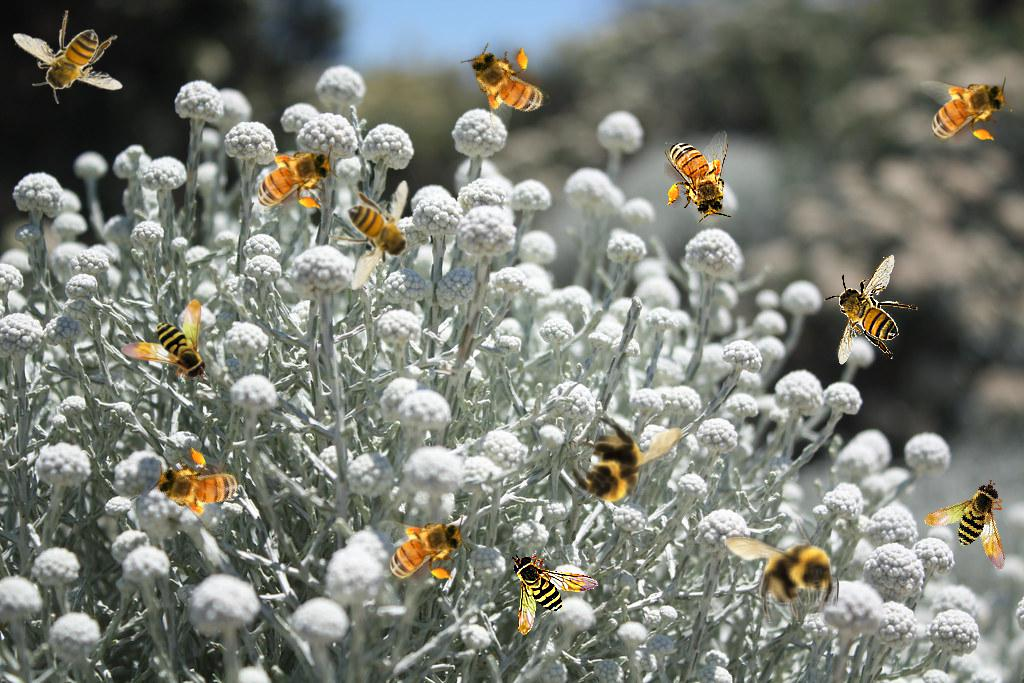Bee: (548, 378, 703, 535), (141, 433, 257, 542), (724, 517, 839, 624), (919, 477, 1024, 591), (457, 29, 557, 142), (12, 10, 123, 104), (328, 180, 422, 291), (824, 254, 918, 365), (120, 299, 208, 381), (511, 553, 599, 635), (375, 514, 471, 585), (664, 130, 732, 223), (245, 144, 338, 212), (919, 76, 1012, 144)
